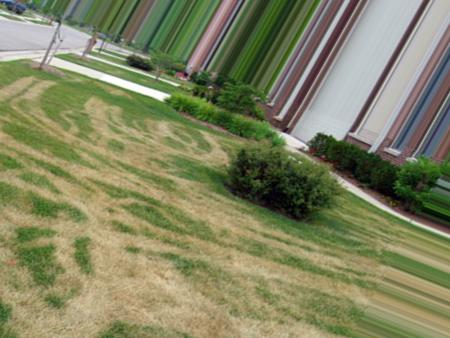patch: (223, 219, 302, 295), (106, 178, 162, 279), (105, 283, 219, 325), (99, 125, 145, 165)
